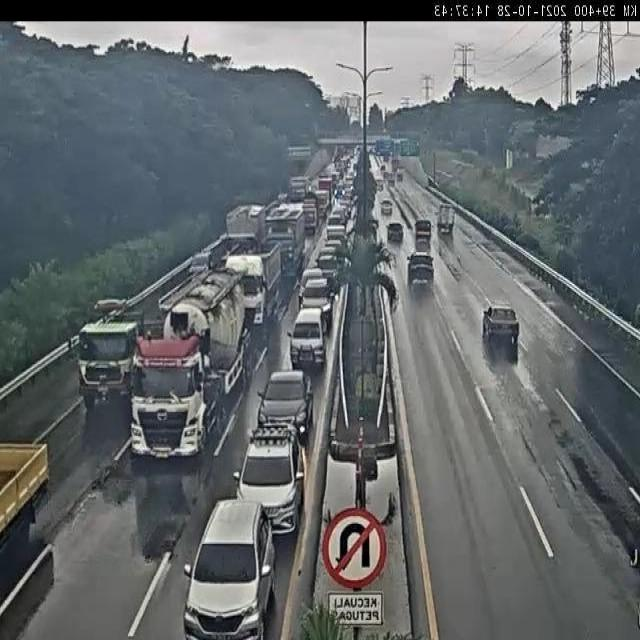Car: (183, 498, 274, 640), (236, 430, 302, 533), (256, 370, 312, 440), (300, 277, 334, 328), (483, 303, 519, 343), (405, 250, 435, 286), (187, 250, 216, 280), (314, 252, 340, 283), (301, 266, 325, 289), (385, 220, 405, 243), (314, 246, 339, 264), (412, 218, 432, 240), (380, 198, 393, 217)
Truck: (128, 265, 252, 461), (64, 293, 165, 409), (0, 440, 51, 571), (223, 236, 286, 328), (260, 204, 306, 279), (218, 201, 269, 262), (434, 203, 456, 234), (285, 174, 309, 202), (312, 187, 332, 218), (300, 203, 318, 236), (317, 175, 333, 201), (300, 189, 319, 204), (387, 171, 396, 186), (396, 168, 404, 182)
Van: (286, 307, 332, 368)
